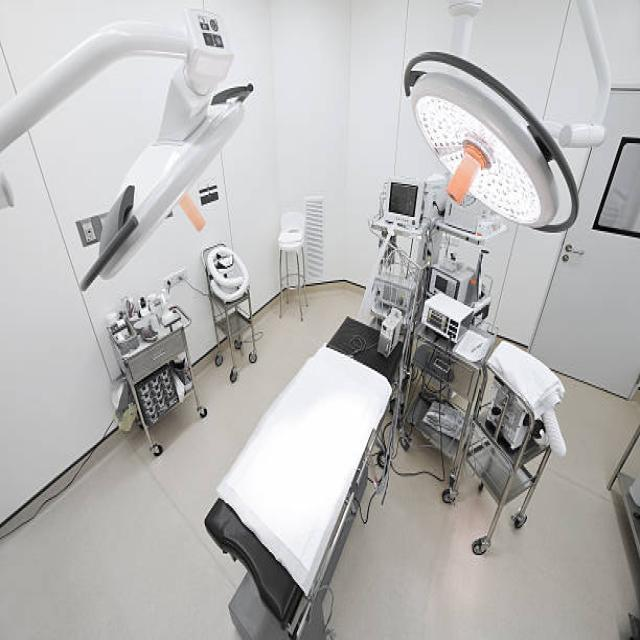Monitor: (105, 279, 210, 472), (376, 162, 428, 266)
bed: (201, 307, 411, 640)
